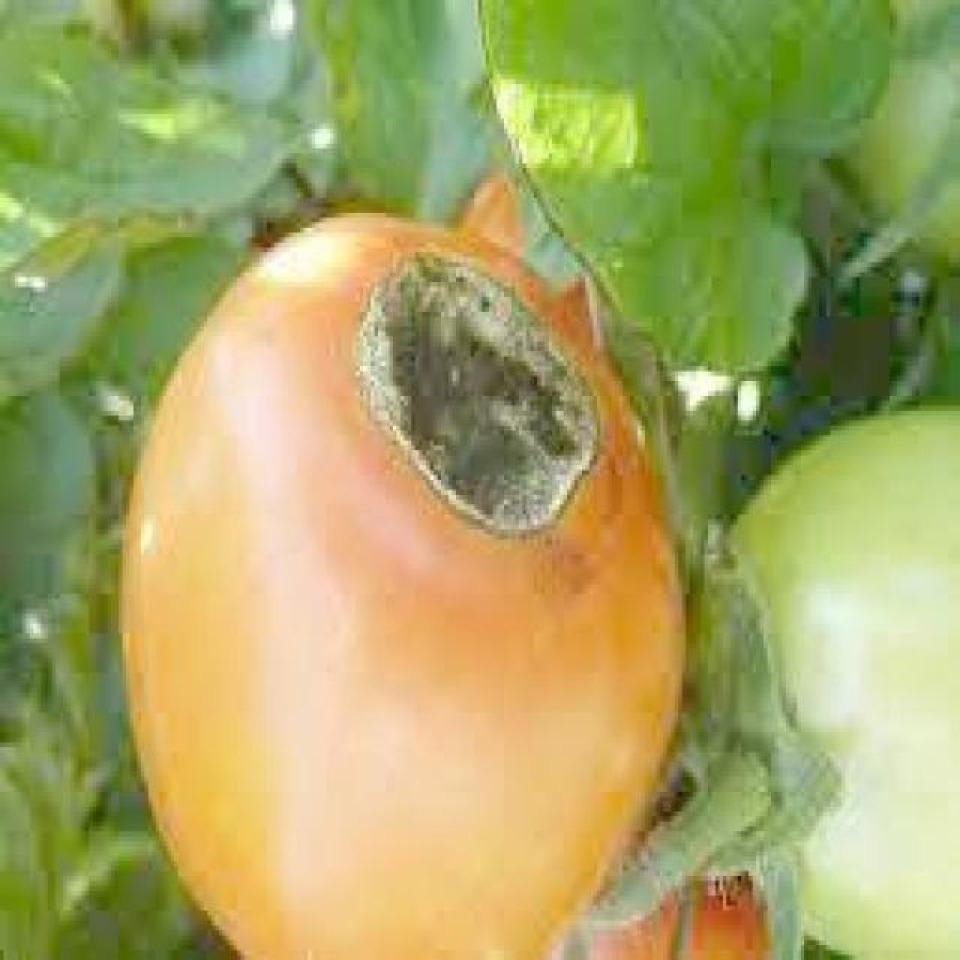Blossom_end_rot: (339, 237, 603, 529)
